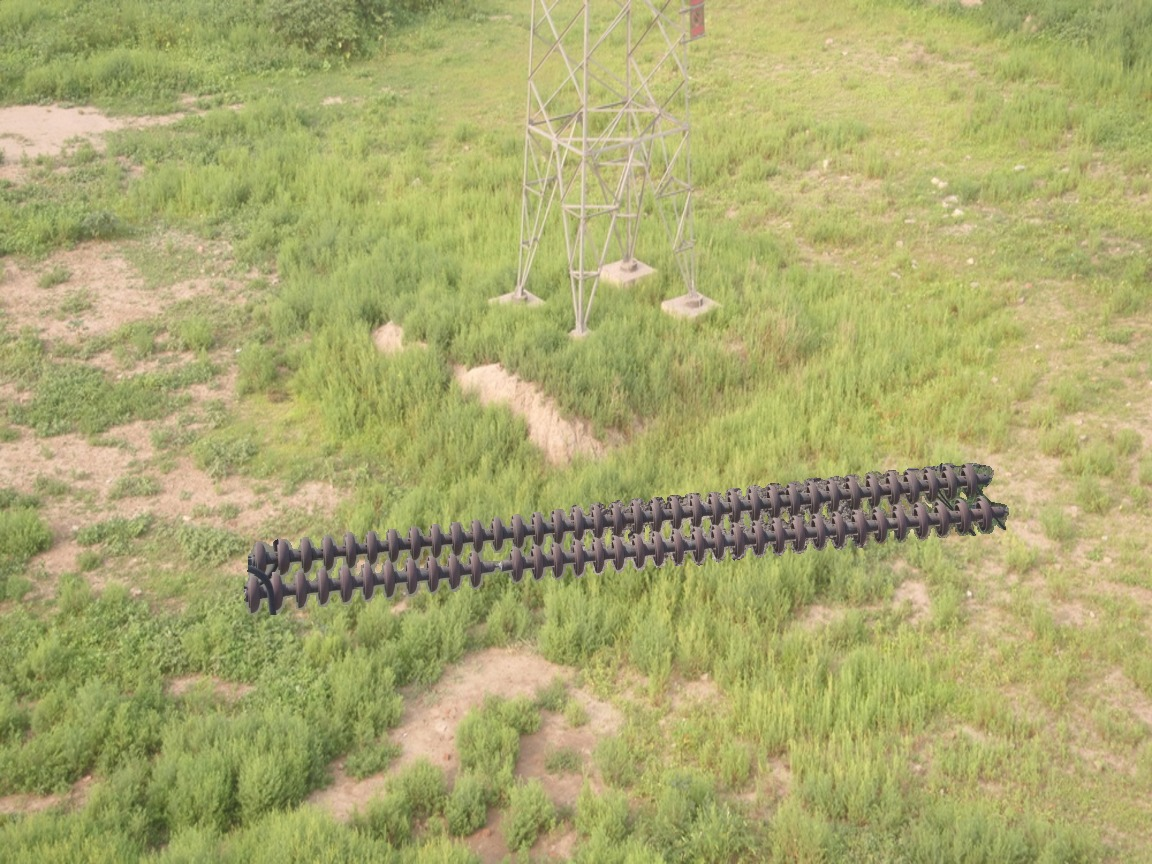defect: (461, 546, 531, 589)
